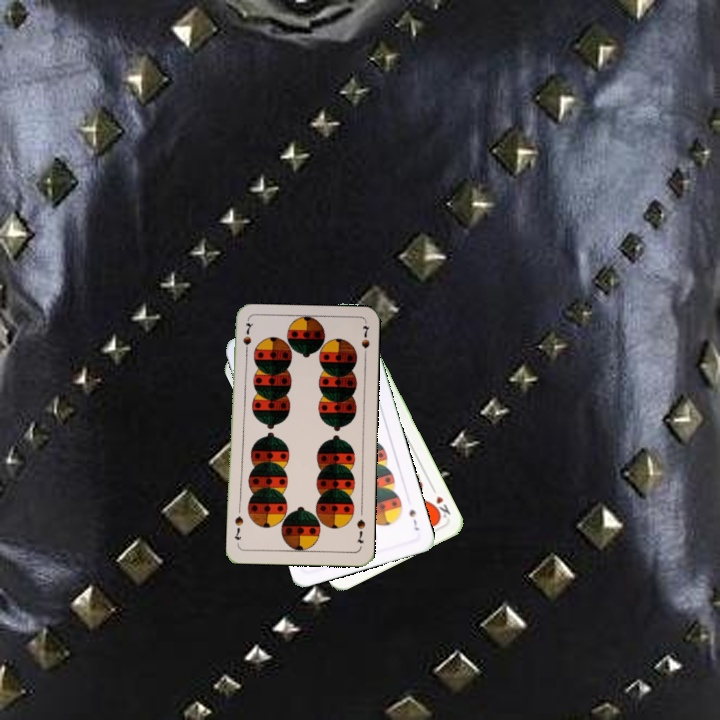HK: (427, 483, 453, 521)
S7: (239, 319, 254, 359), (405, 505, 422, 533), (353, 515, 368, 546)
